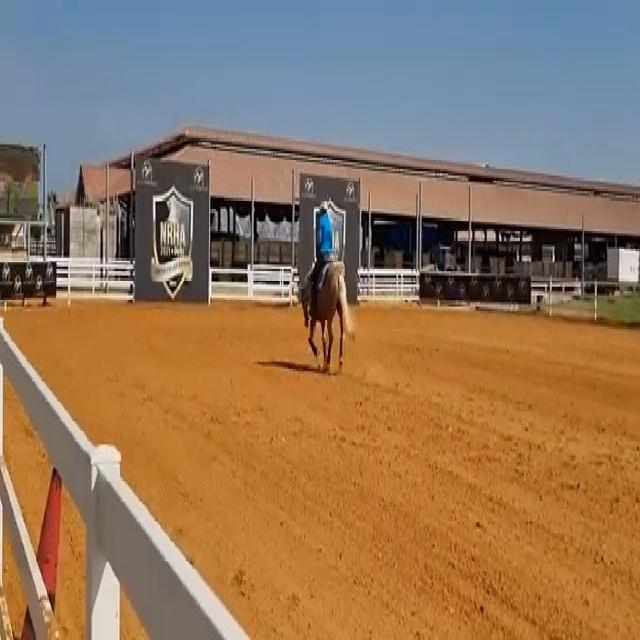horse: (297, 254, 355, 374)
